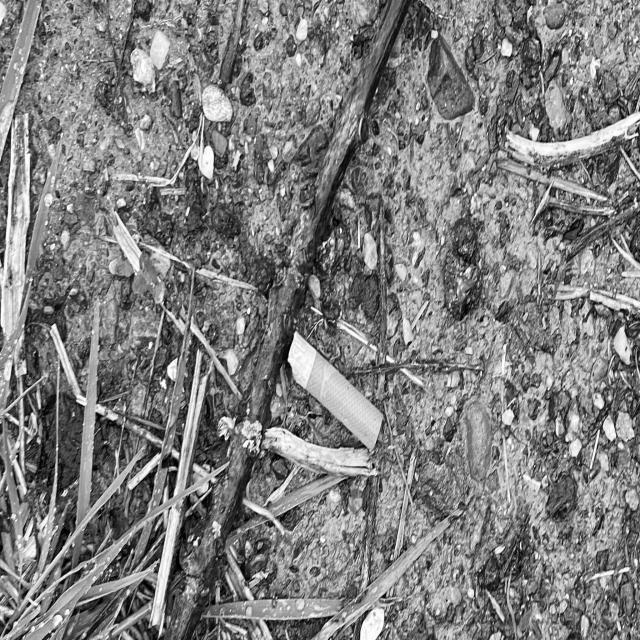other waste: (287, 329, 385, 452)
